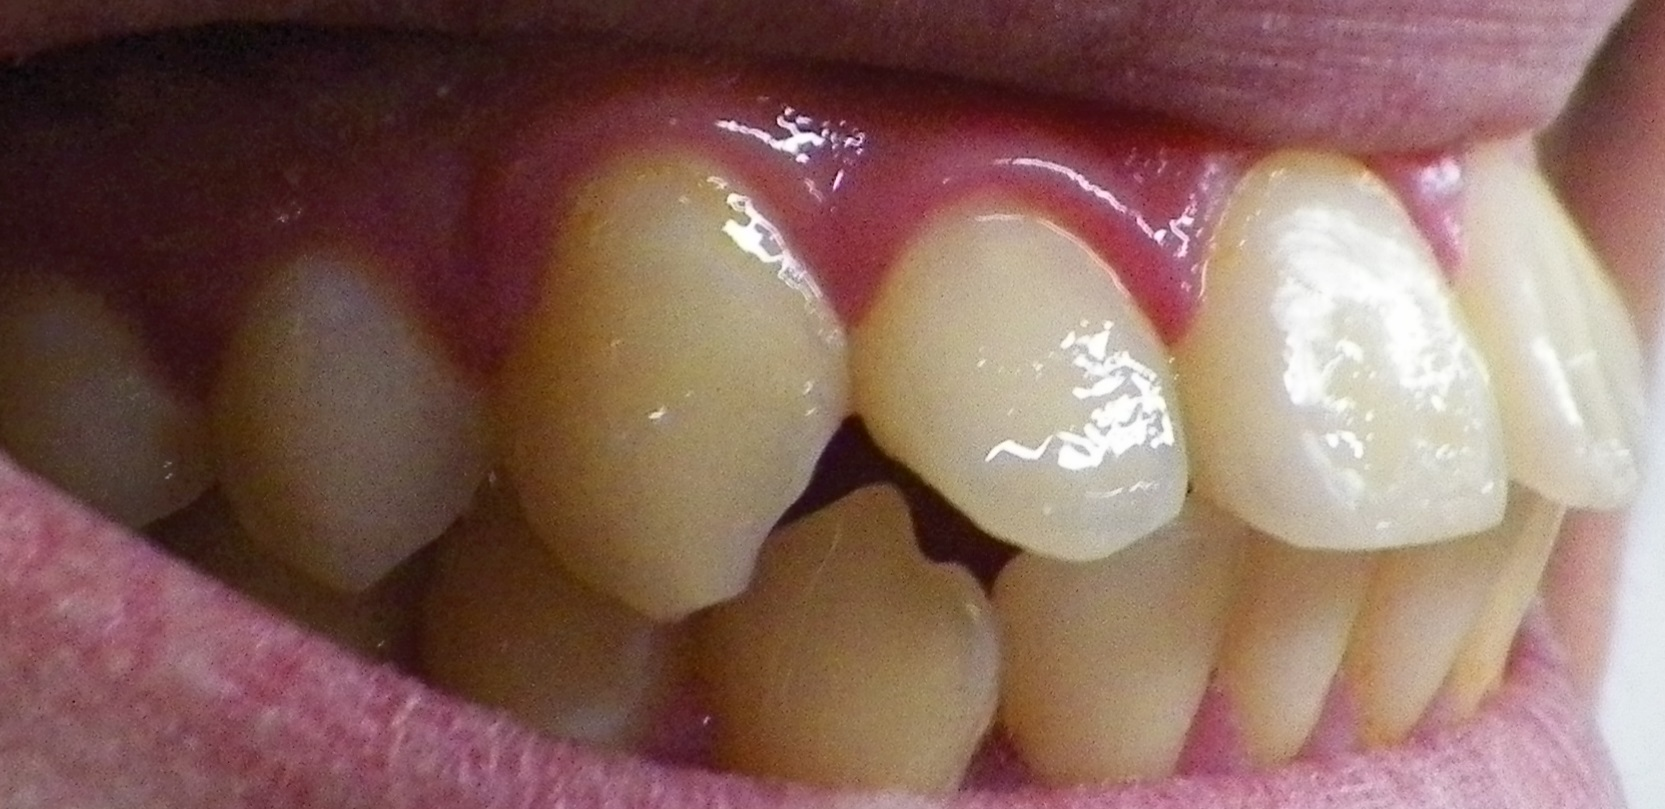boca: (32, 141, 1641, 788)
